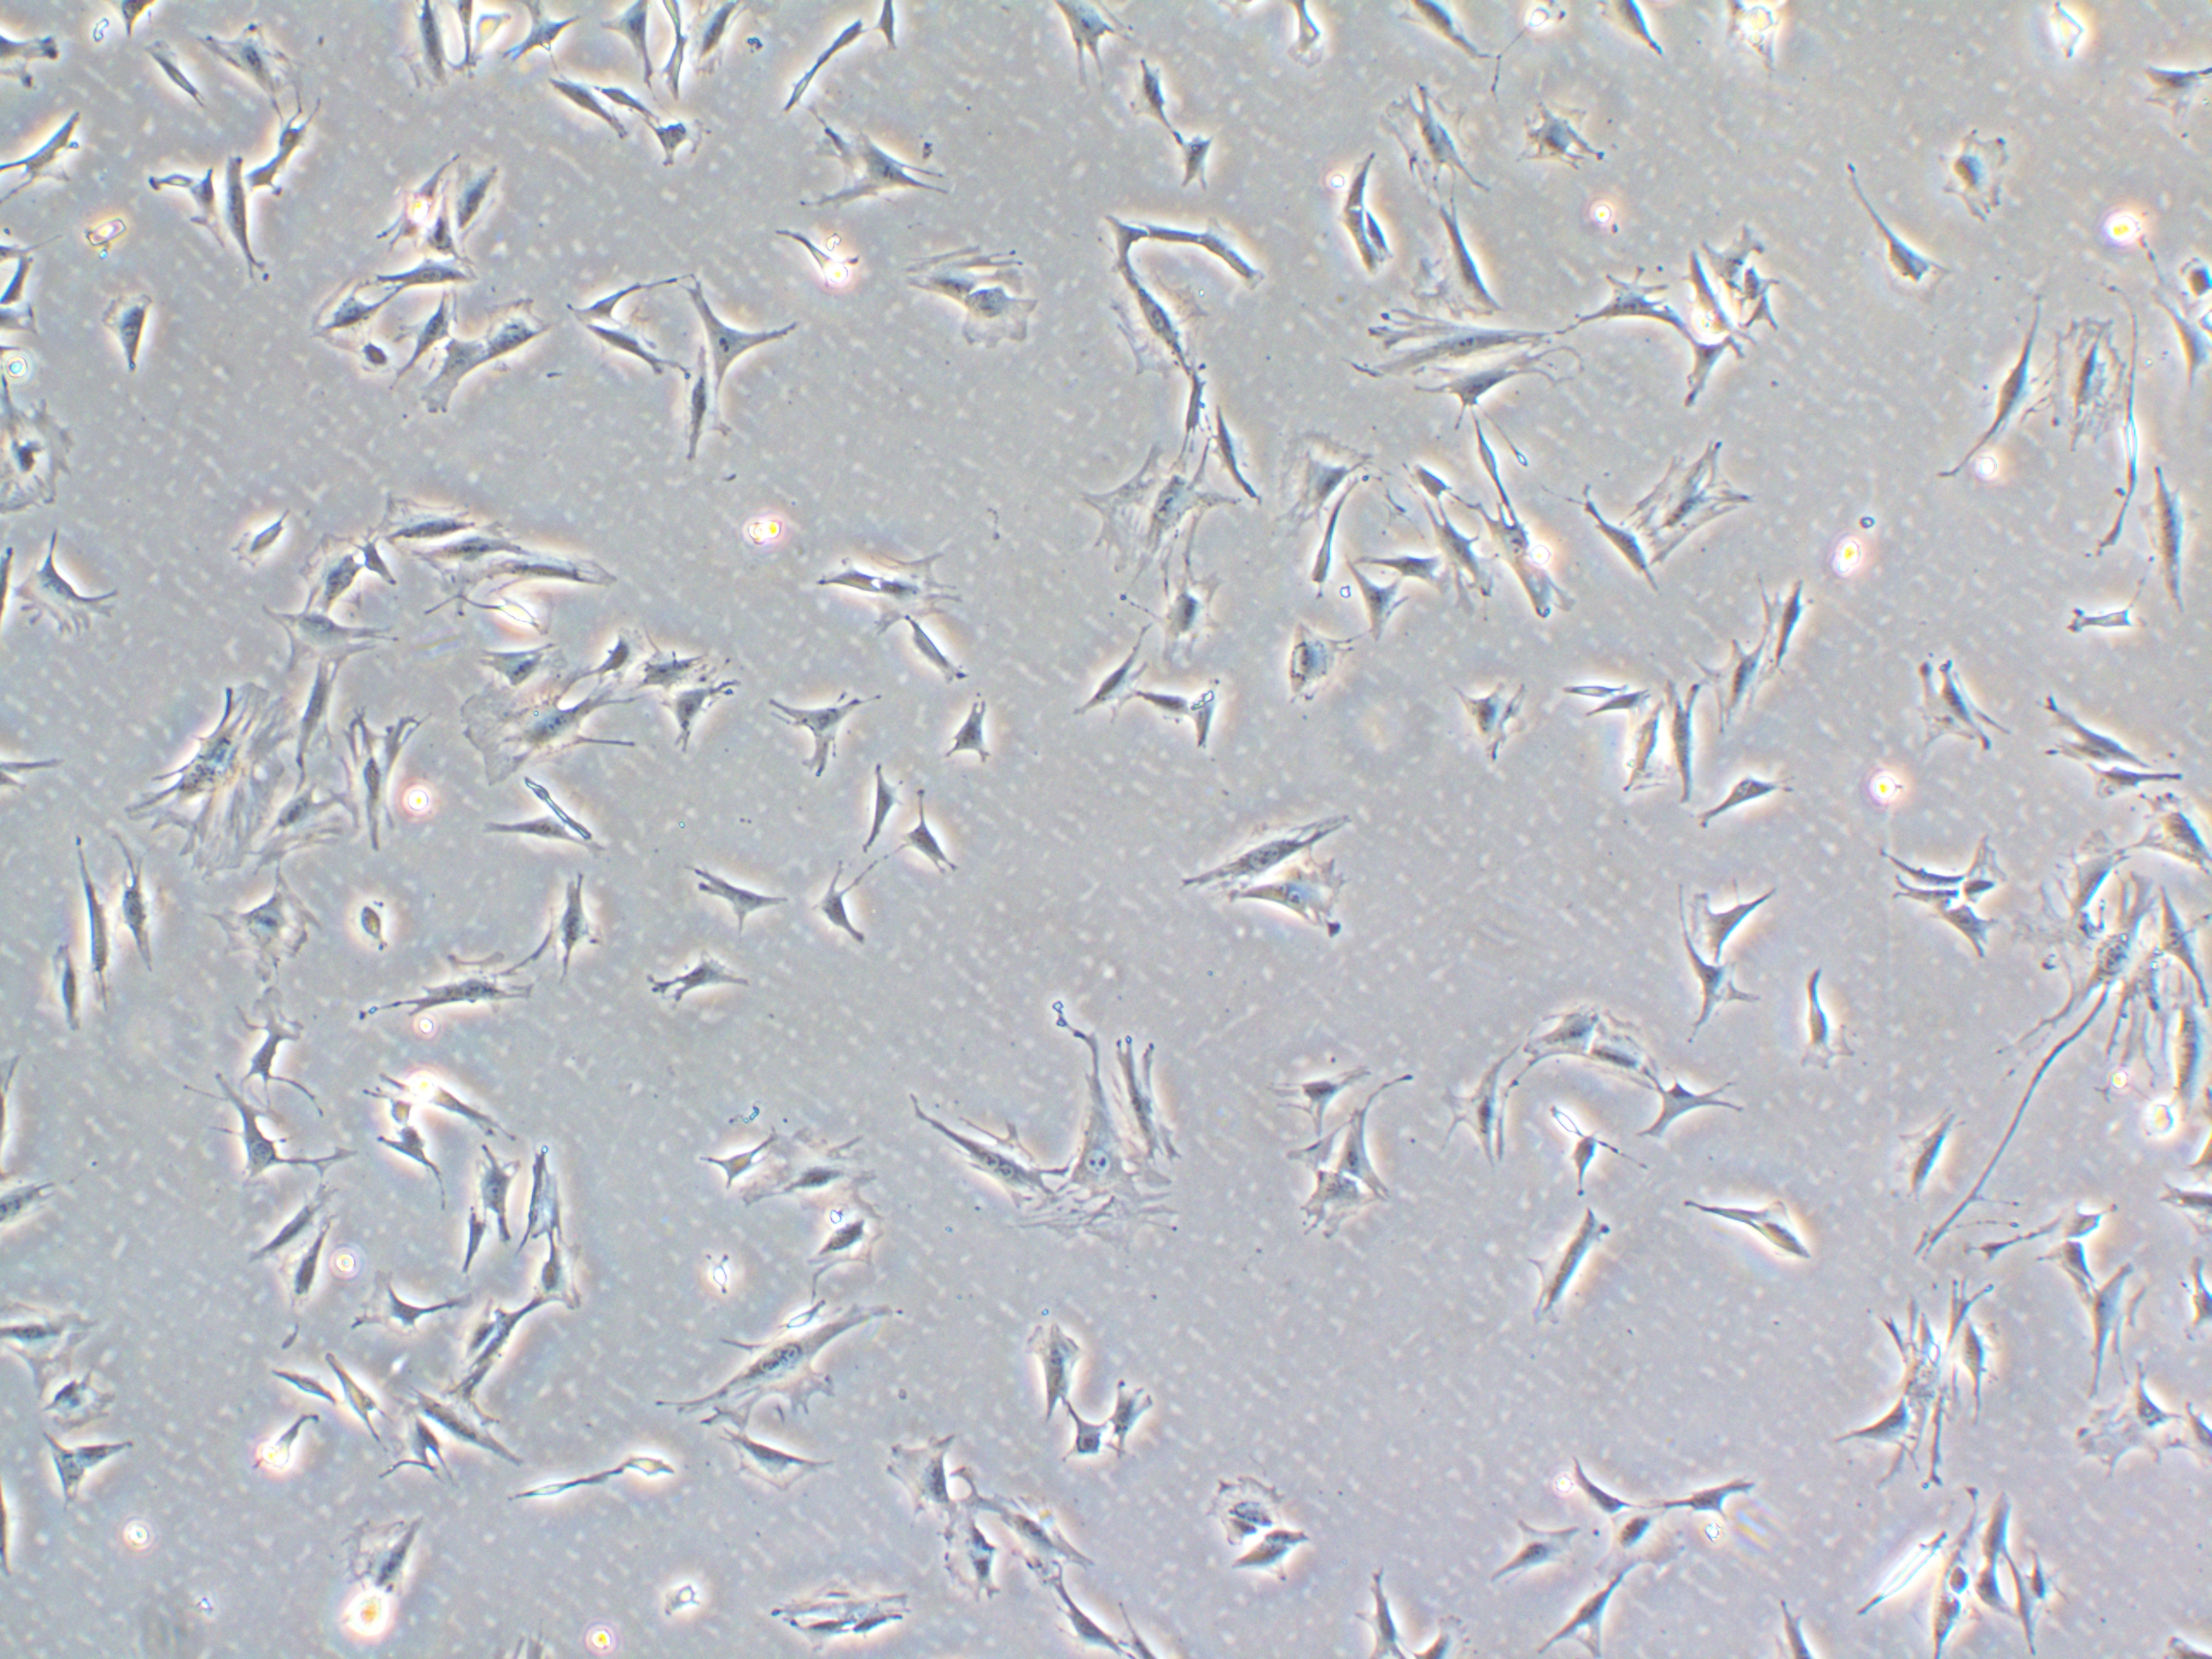small: (218, 493, 312, 570), (334, 887, 406, 969), (343, 333, 416, 394), (686, 1244, 744, 1312), (366, 1086, 428, 1141), (1395, 453, 1454, 504)
spread: (1979, 870, 2174, 1073), (131, 678, 300, 894), (1026, 1082, 1188, 1279), (1076, 439, 1258, 601), (679, 1300, 885, 1432), (455, 671, 664, 796), (1609, 423, 1757, 587), (2059, 1358, 2181, 1485), (0, 383, 91, 525), (2038, 308, 2125, 448)
